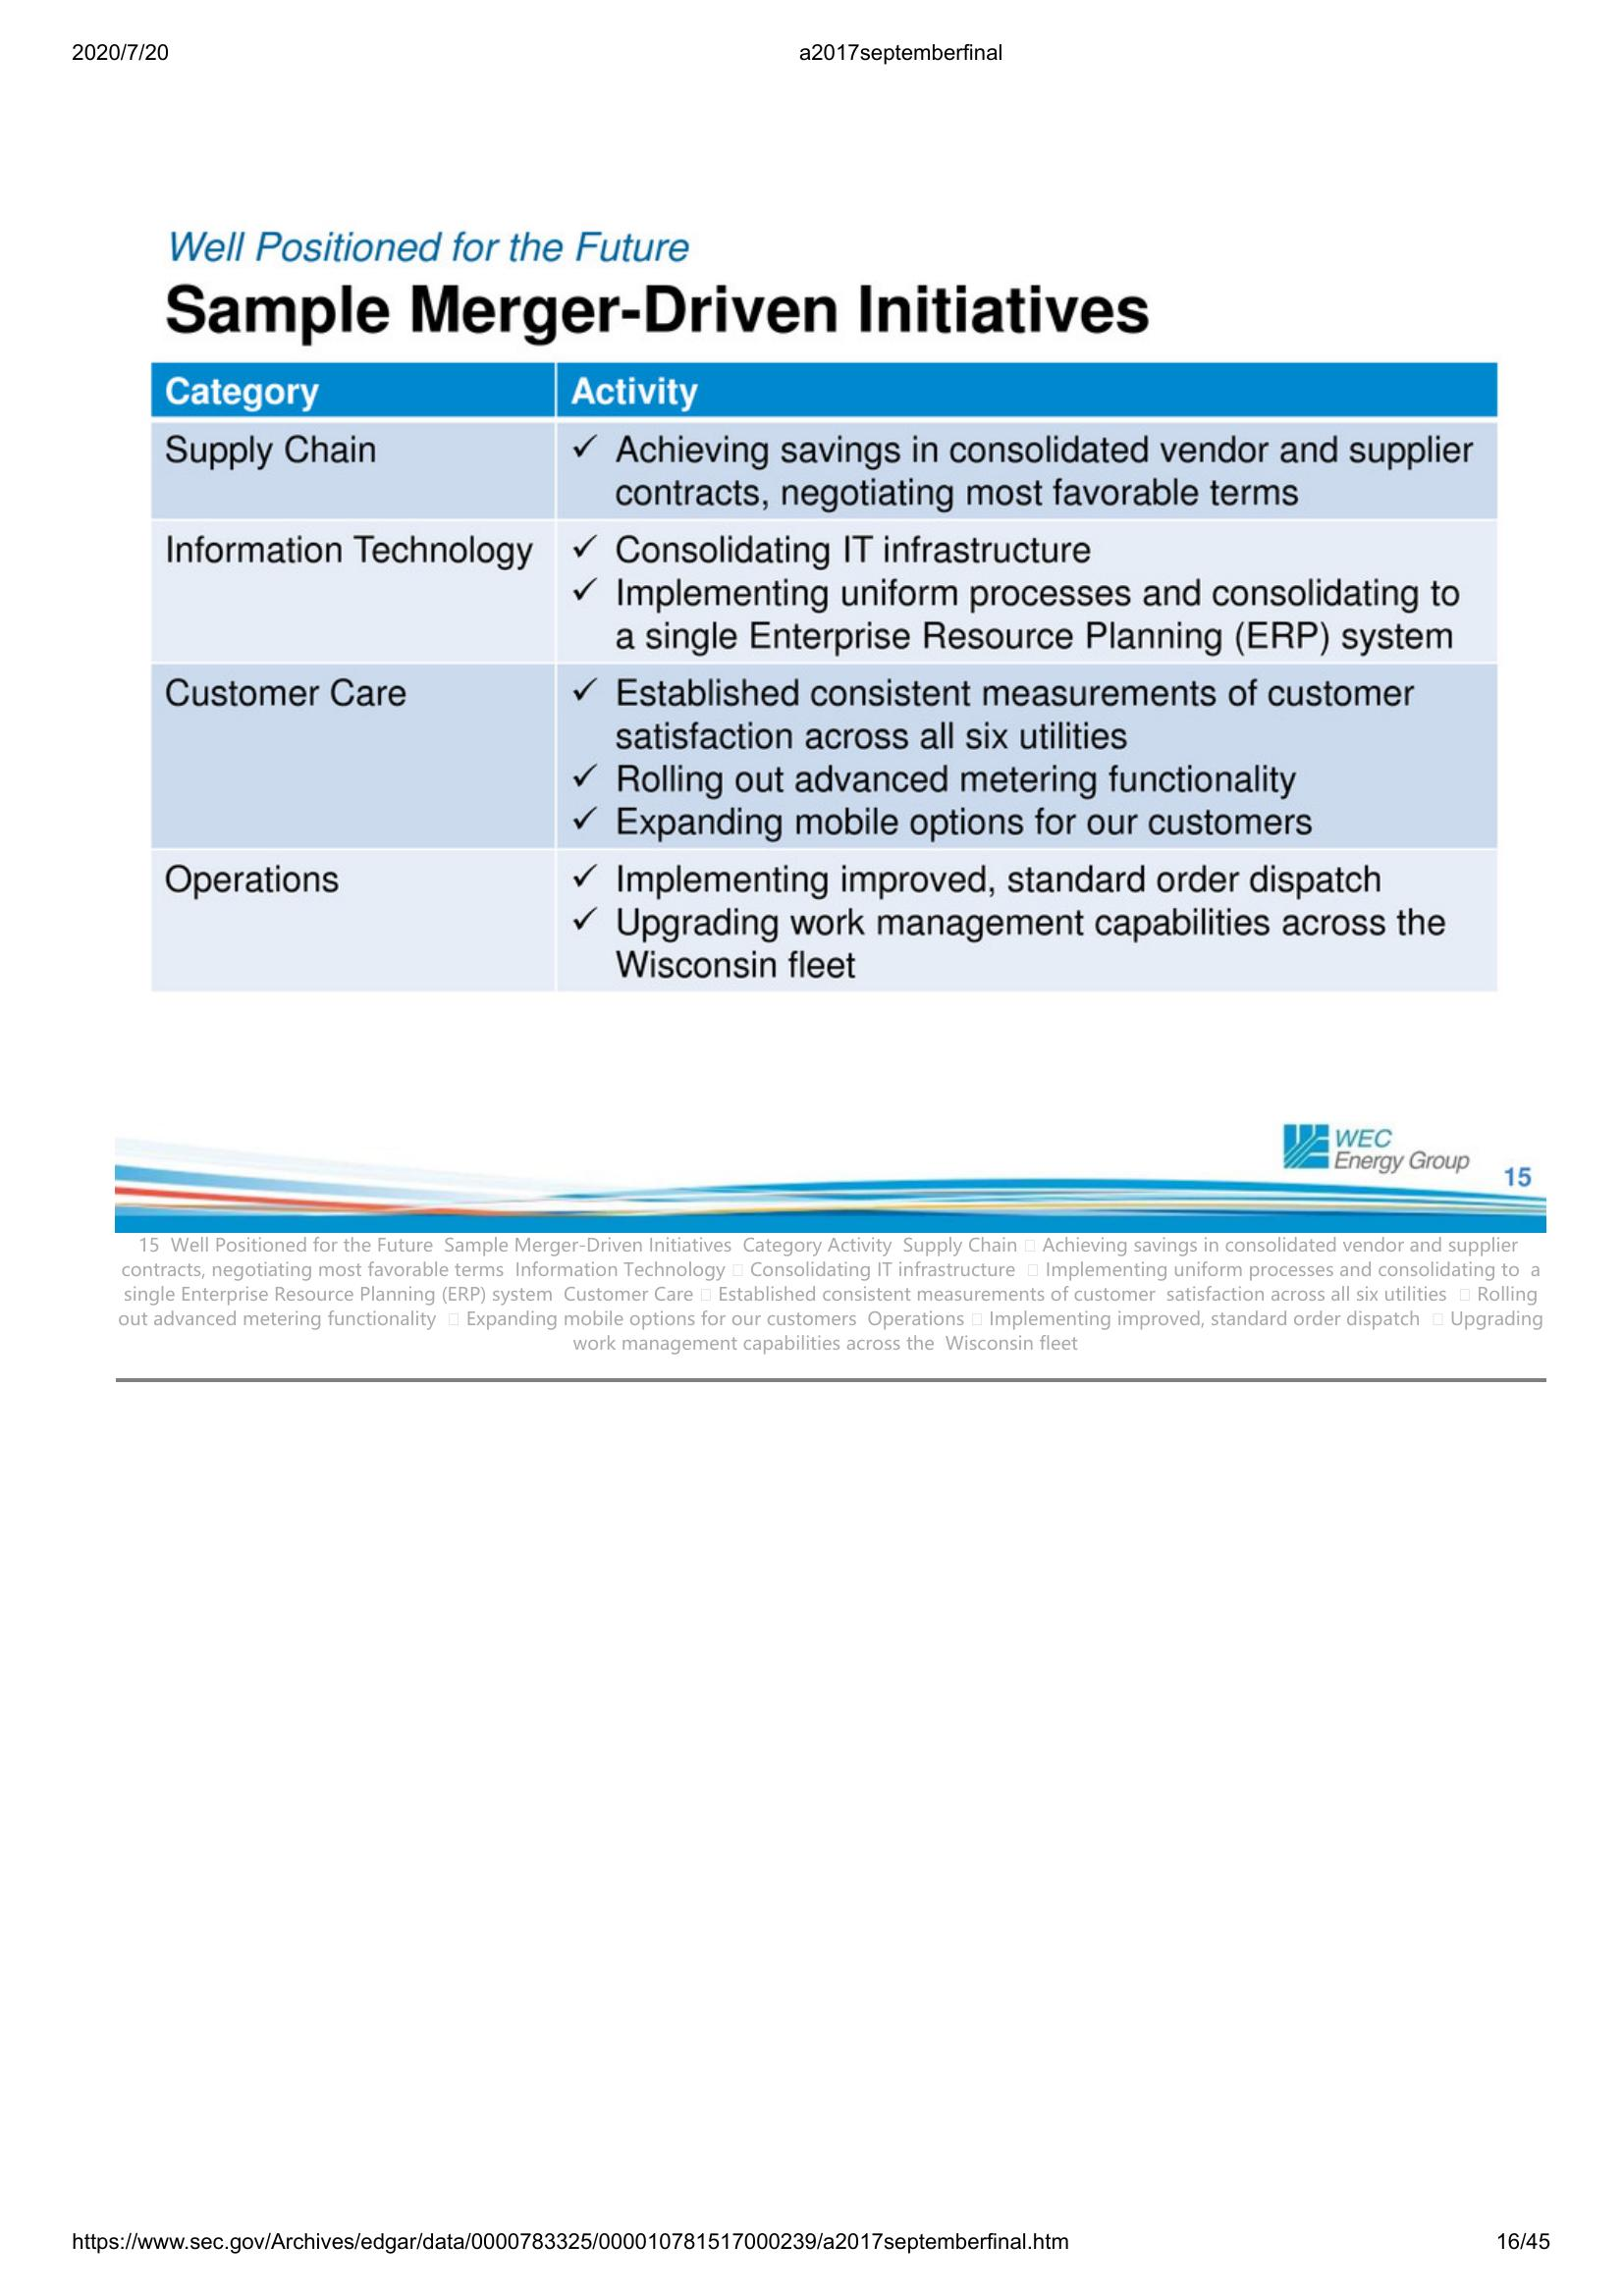table: (146, 358, 1504, 1001)
